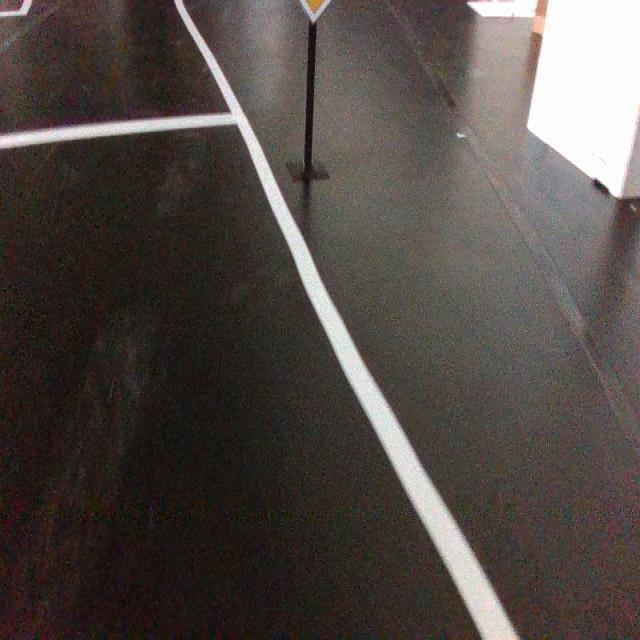priority-sign: (298, 0, 332, 26)
